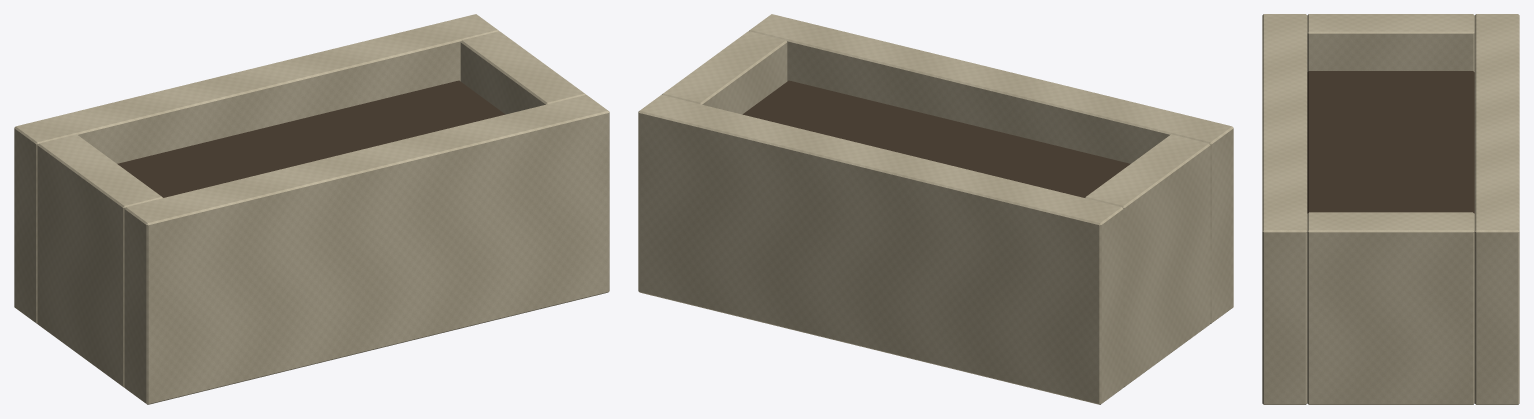
Rendered from planter.glb.
3 views of the same model, side by side, from view 1: azimuth 30°, elevation 25°; view 2: azimuth 150°, elevation 25°; view 3: azimuth 270°, elevation 25° (orthographic). The views are drawn at different scales.
Parts seen in each view (by area): view 1: planter; view 2: planter; view 3: planter.
Boxes of the visible parts, left/top/right/bottom form: planter: left=14, top=14, right=609, bottom=404; planter: left=638, top=14, right=1233, bottom=404; planter: left=1262, top=14, right=1519, bottom=404.
Size of the model in its own units: 1.6 by 0.6 by 0.8.
2 materials, 1 textured.
